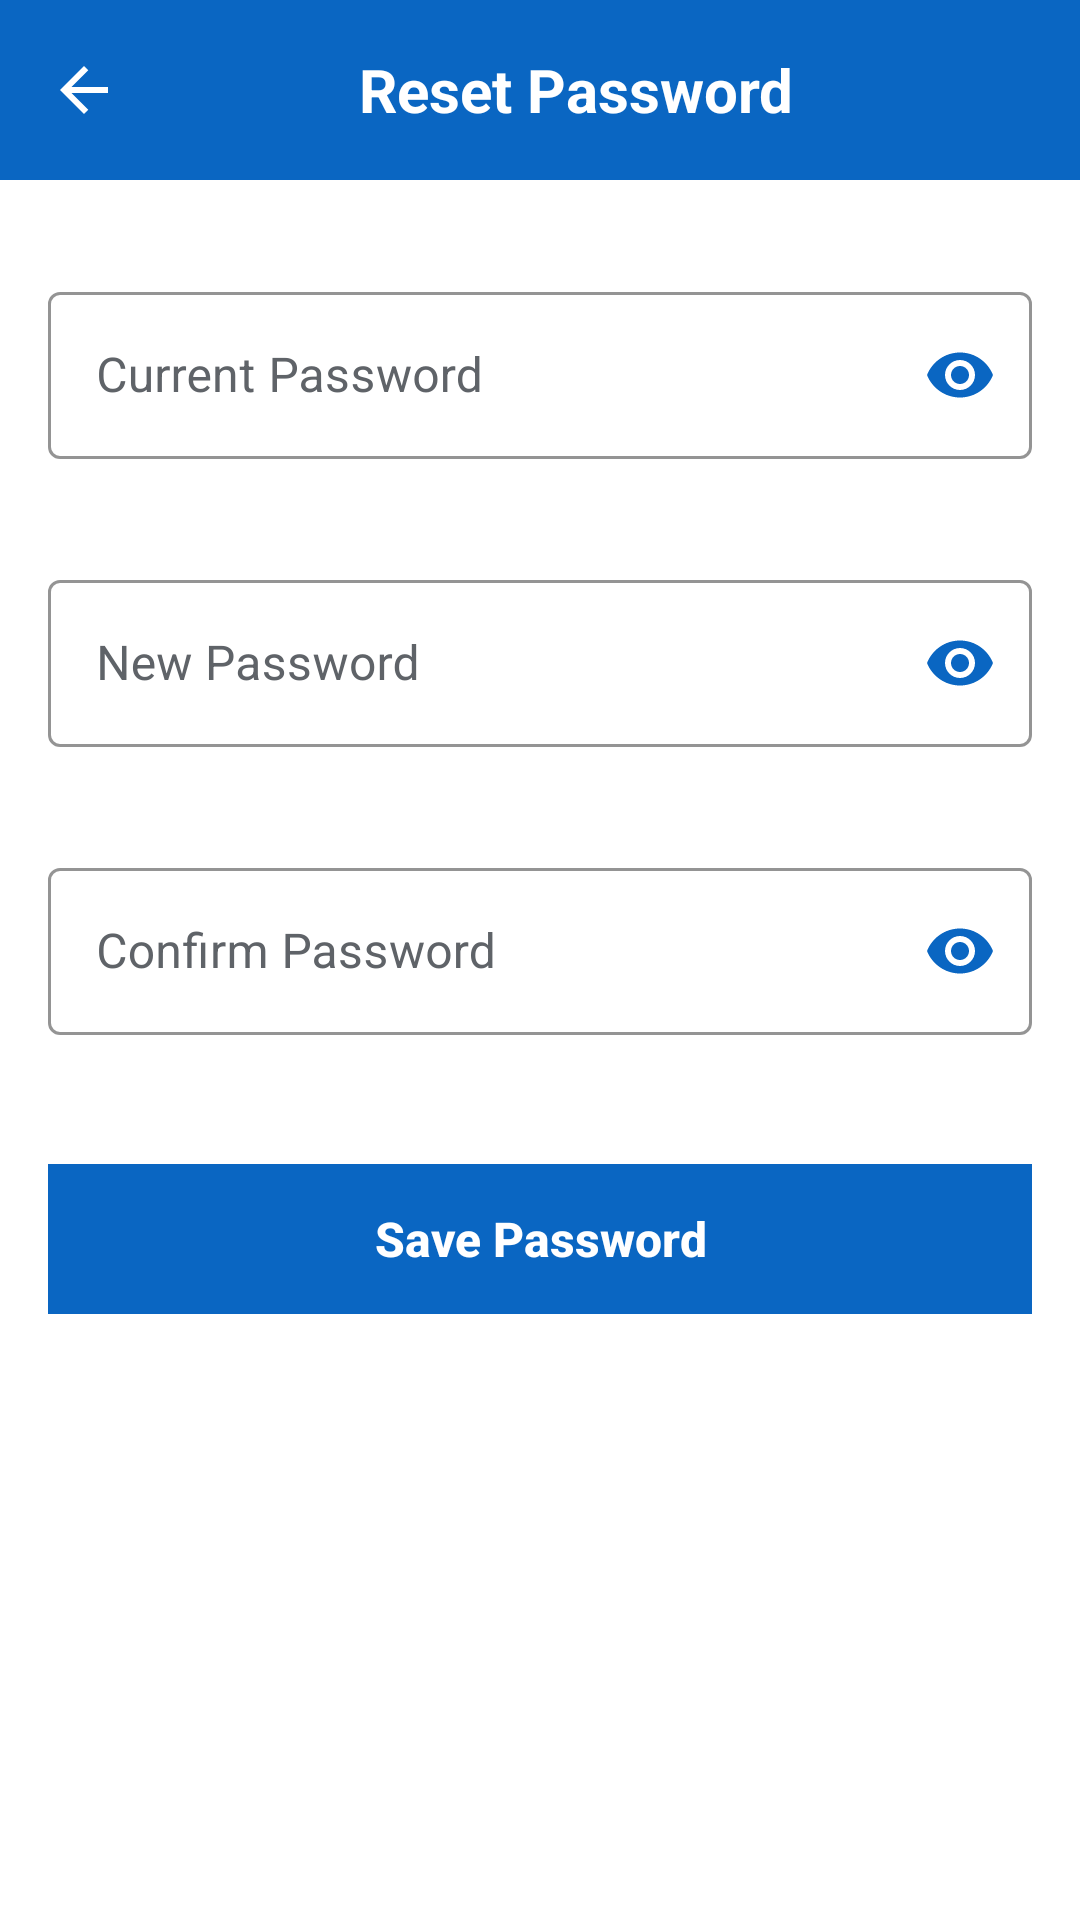

Icon click points for this 1080 × 1920 phone screenshot, format [x,y]:
Back: [84,90]
